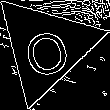O_N: (18, 17, 73, 77)
